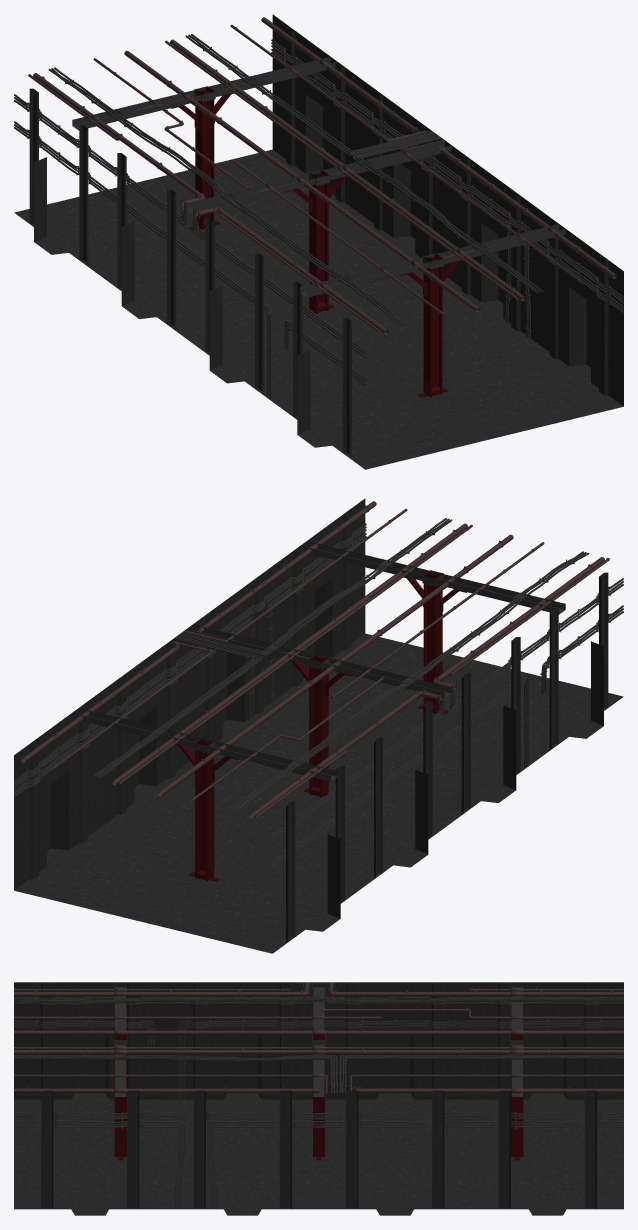
Rendered from SW_ENV_RailTunnel_B_02_Double_20m_FF.fbx.
3 renders of one model, top to bottom at view 1: azimuth 30°, elevation 25°; view 2: azimuth 150°, elevation 25°; view 3: azimuth 270°, elevation 25°, orthographic. The views are drawn at different scales.
Visible parts, largest first — view 1: SW_ENV_RailTunnel_B_02_Double_20m_FF; view 2: SW_ENV_RailTunnel_B_02_Double_20m_FF; view 3: SW_ENV_RailTunnel_B_02_Double_20m_FF.
Part boxes in pixels (x1,y1,x2,y2): SW_ENV_RailTunnel_B_02_Double_20m_FF: (14, 14, 623, 469); SW_ENV_RailTunnel_B_02_Double_20m_FF: (14, 498, 623, 953); SW_ENV_RailTunnel_B_02_Double_20m_FF: (14, 982, 623, 1215).
Bounding box in the file's own units: 9.5 × 4.25 × 20.
